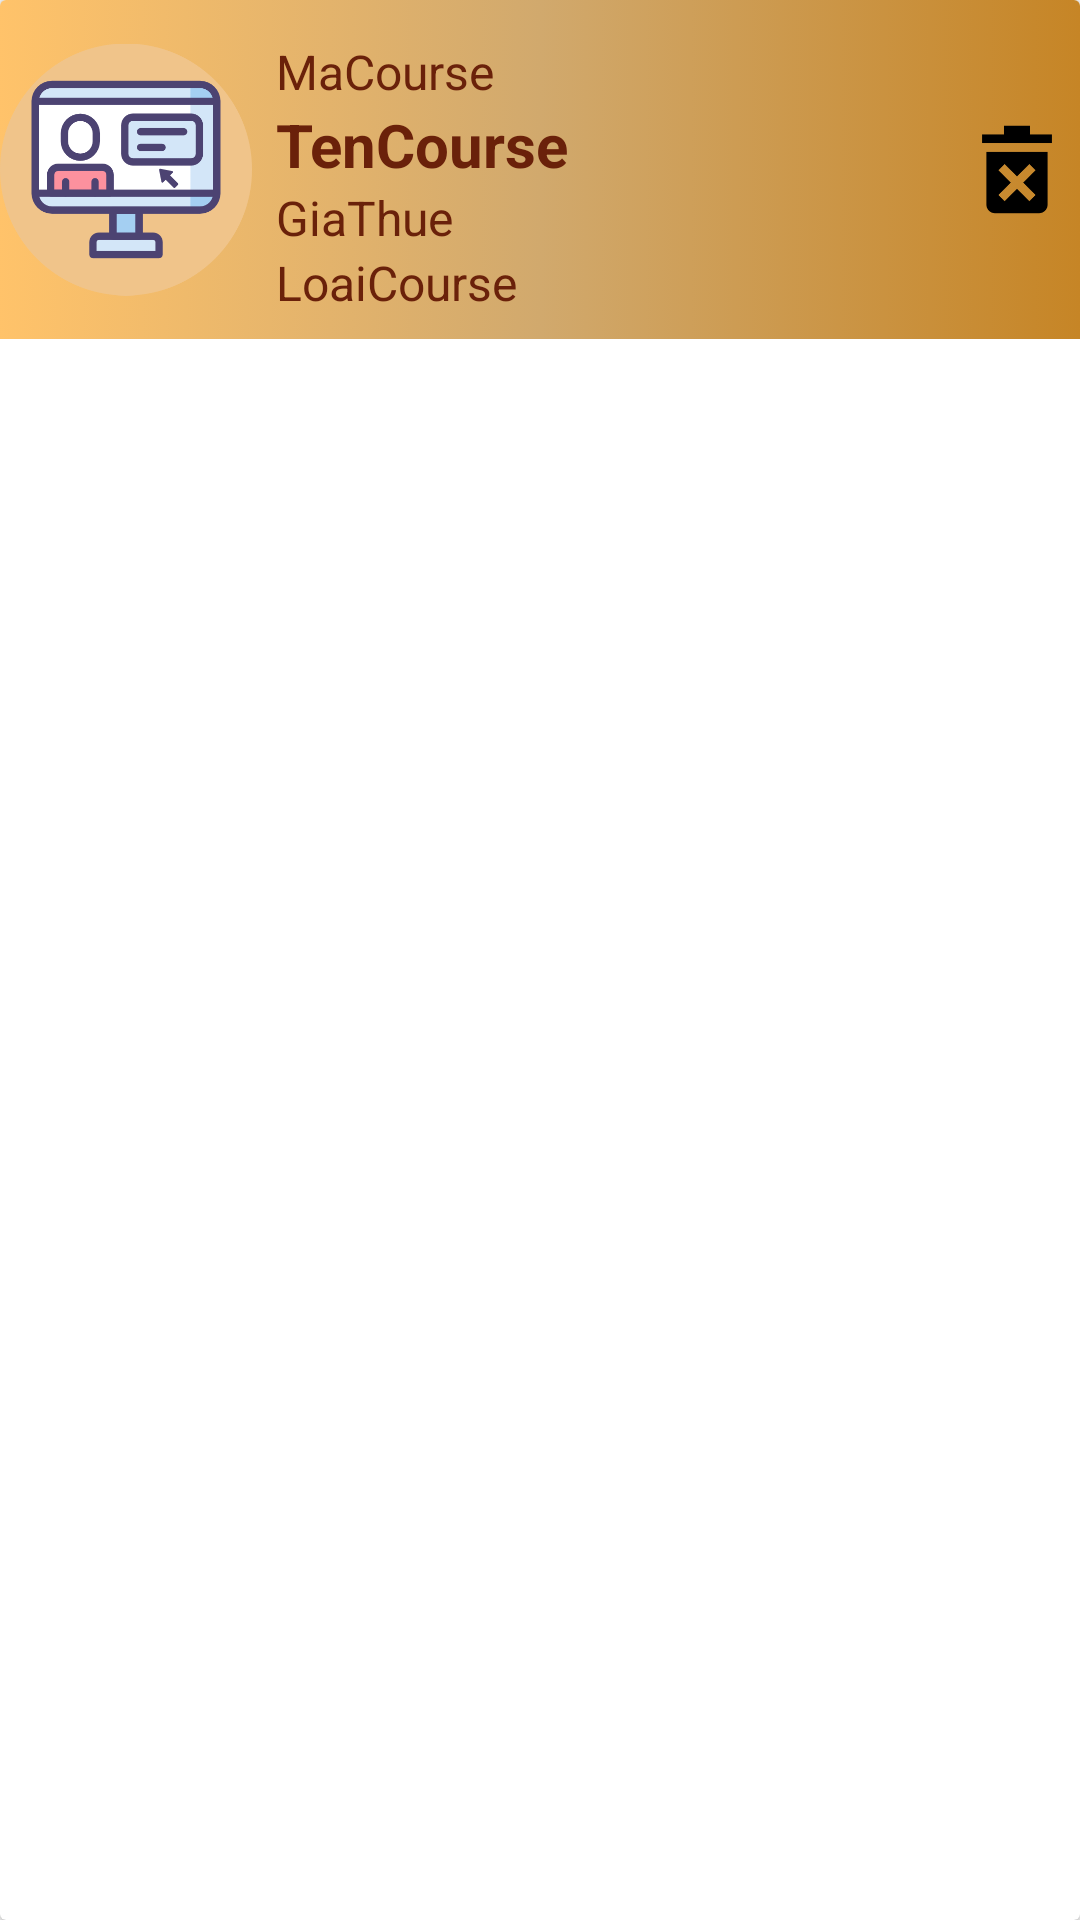

Icon click points for this 1080×1920 phone screenshot, format (x,y):
courseitem: (126,170)
delete: (1017,169)
